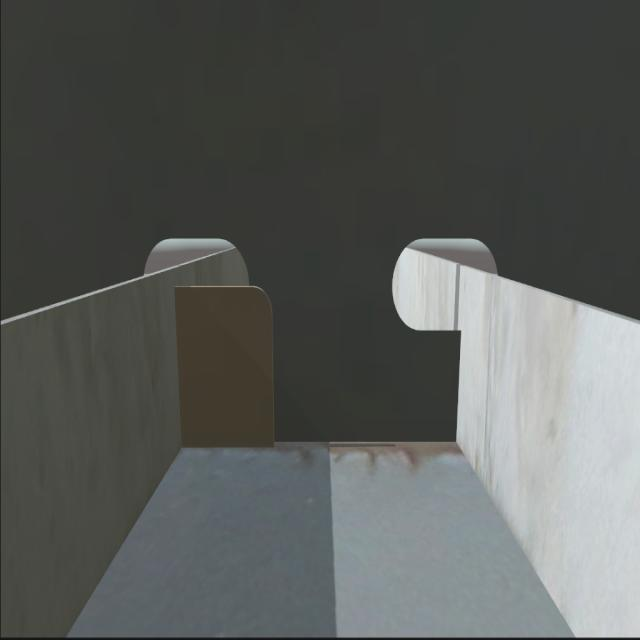fillet_yong_jeop_jang: (182, 431, 466, 456)
longi_yong_jeop_jang: (169, 282, 193, 452), (451, 322, 467, 444)
plate_CP05: (174, 285, 274, 450)
